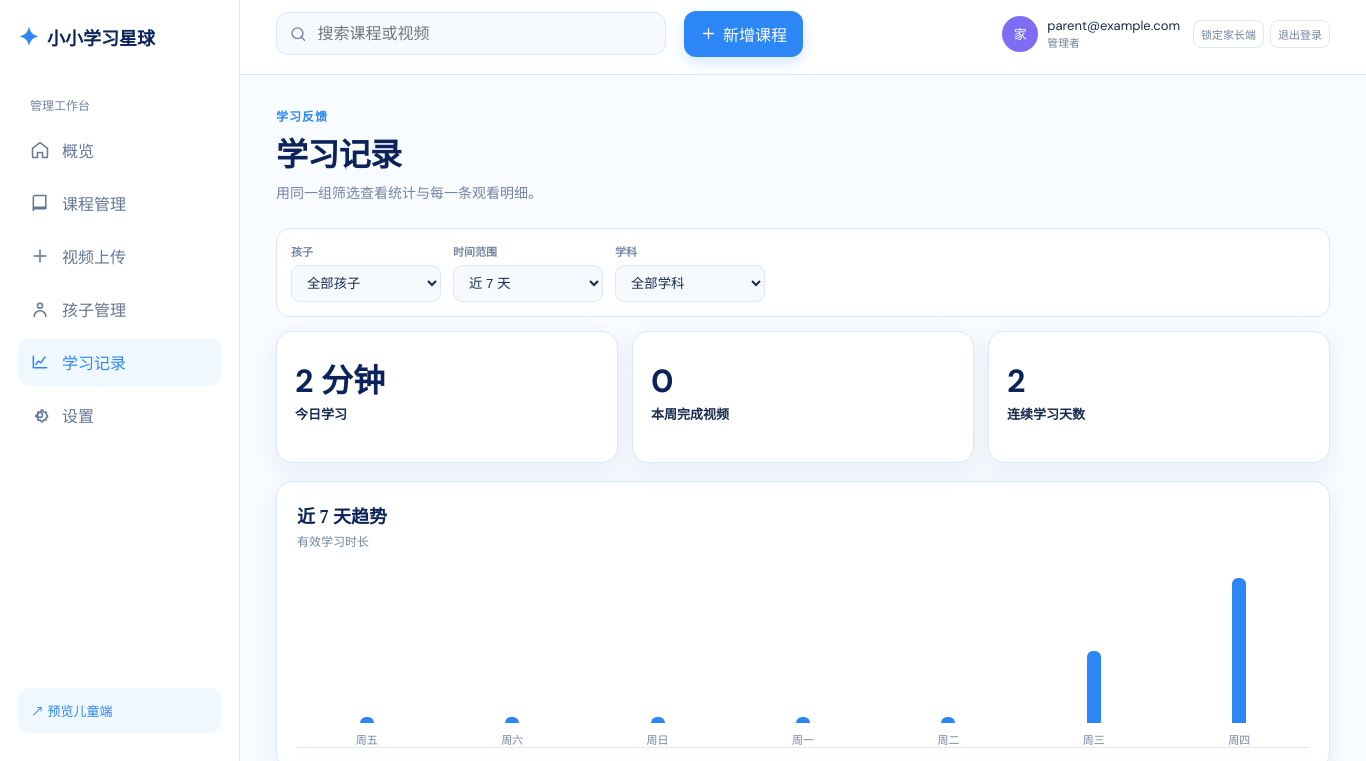
it: parent management pages › filters learning records and updates both summary and detail
The image size is (1366, 761).
expect the element with test id "records-today" shows "2": met, box [295,360,385,402]
Select "语文" in the dropdown named "学科筛选" at x=690, y=284, box [615,265,765,302]
(page scrolled)
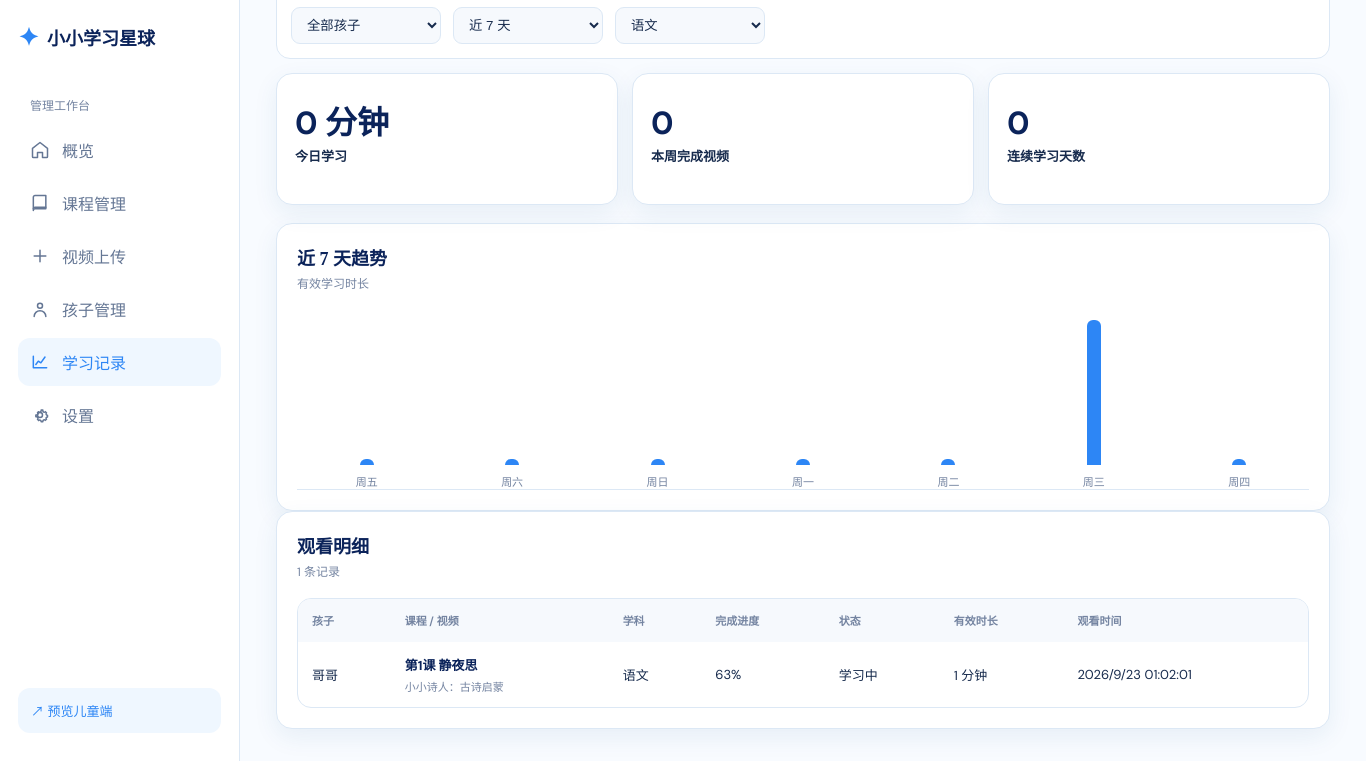
expect the text "第1课 静夜思" is shown: met, box [405,657,478,674]
expect the element with test id "records-today" shows "0": met, box [295,102,389,144]
